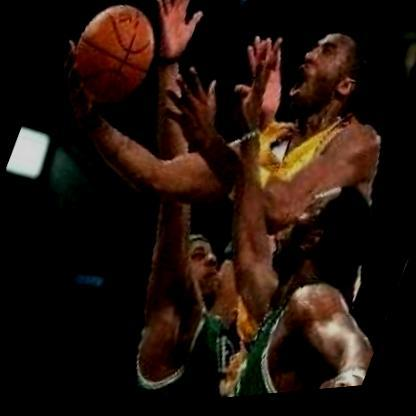basketball: (50, 0, 176, 131)
